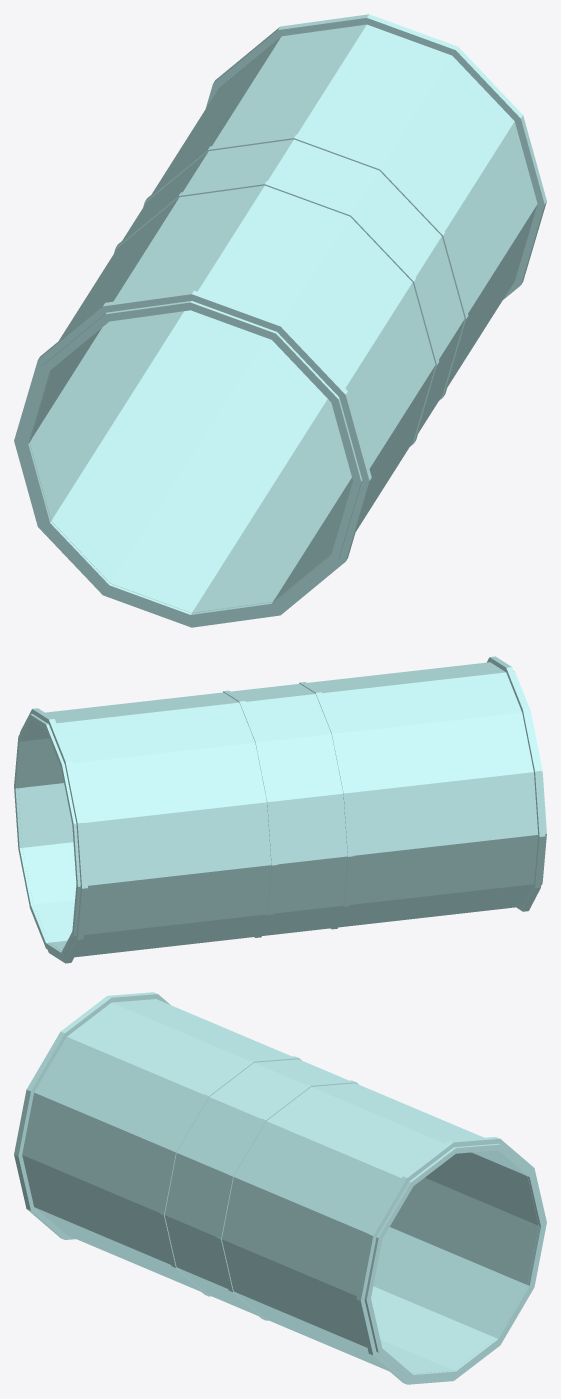
Rendered from tube_diagonal_crossing.glb.
3 views of the same model, one above another, from view 1: azimuth 30°, elevation 25°; view 2: azimuth 150°, elevation 25°; view 3: azimuth 270°, elevation 25° (orthographic). The views are drawn at different scales.
Visible parts, largest first — view 1: Round_Glass_Shell, Start_Collar, End_Collar, Crossing_Marker_-0, Crossing_Marker_0; view 2: Round_Glass_Shell, End_Collar, Start_Collar, Crossing_Marker_0, Crossing_Marker_-0; view 3: Round_Glass_Shell, End_Collar, Start_Collar, Crossing_Marker_0, Crossing_Marker_-0.
Part boxes in pixels (x1,y1,x2,y2): Round_Glass_Shell: [20, 24, 537, 622]; Start_Collar: [14, 290, 371, 627]; End_Collar: [205, 14, 546, 299]; Crossing_Marker_-0: [114, 180, 439, 446]; Crossing_Marker_0: [143, 134, 468, 400]; Round_Glass_Shell: [14, 662, 546, 958]; End_Collar: [18, 708, 87, 963]; Start_Collar: [487, 656, 545, 911]; Crossing_Marker_0: [223, 690, 277, 937]; Crossing_Marker_-0: [299, 682, 353, 929]; Round_Glass_Shell: [22, 999, 545, 1380]; End_Collar: [356, 1137, 546, 1384]; Start_Collar: [14, 992, 170, 1239]; Crossing_Marker_0: [216, 1080, 358, 1320]; Crossing_Marker_-0: [159, 1056, 301, 1296].
Bounding box in the file's own units: 3.04 × 1.5 × 3.04.
Materials: 2 (2 with a texture image).
